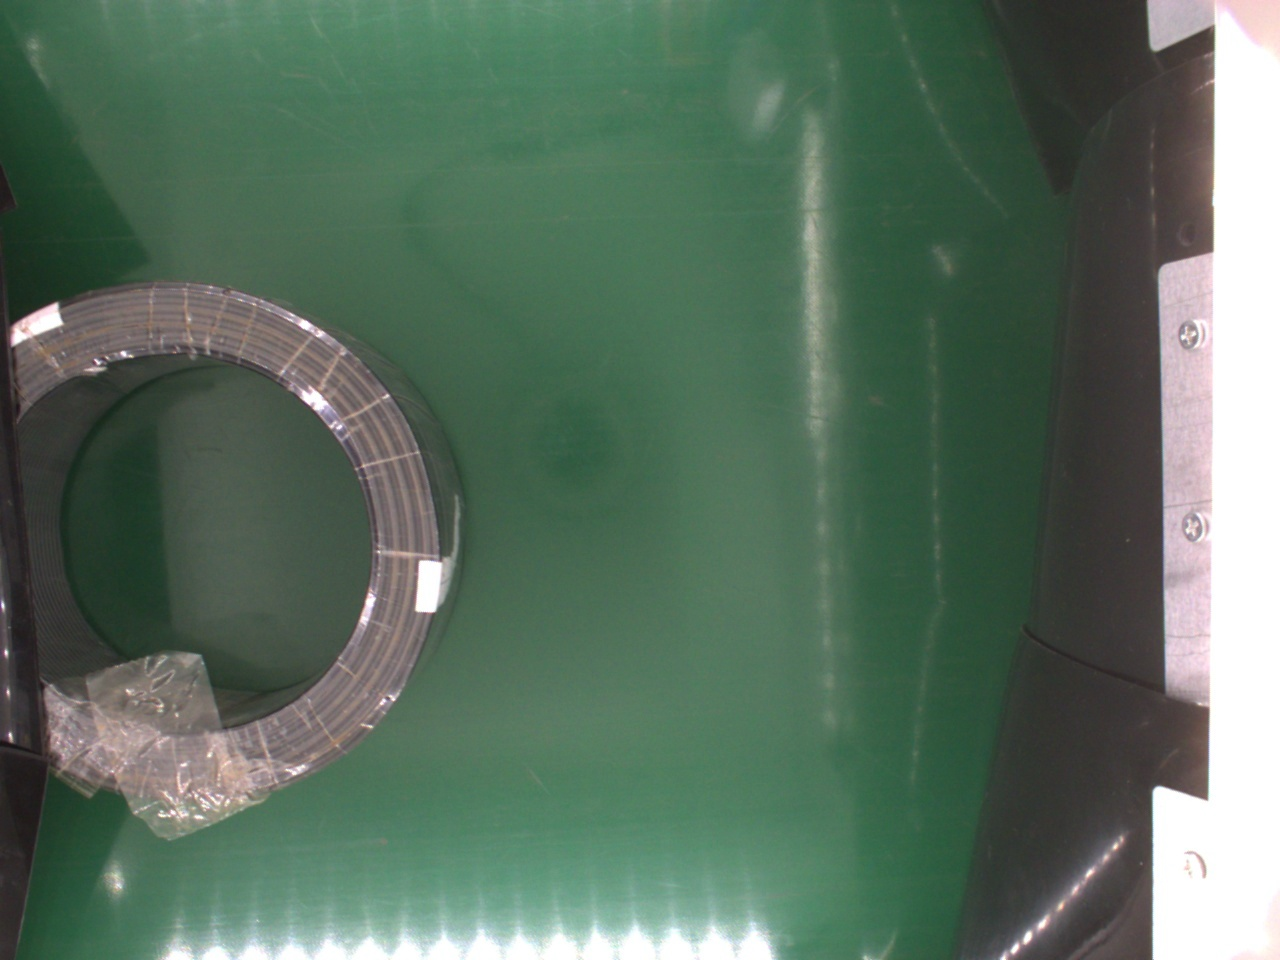black: (18, 280, 464, 813)
